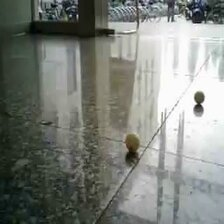w: (124, 131, 142, 151), (192, 90, 205, 105)
